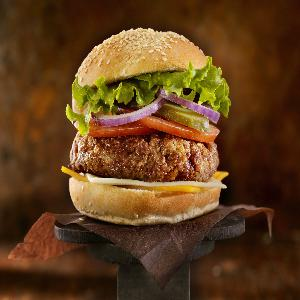cheeseburger_475cal: (66, 19, 234, 235)
